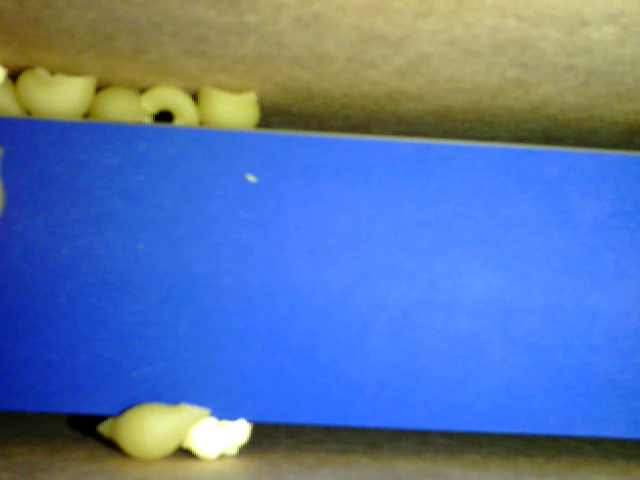elbow: (139, 82, 198, 126)
shell: (96, 401, 213, 460), (14, 67, 95, 120), (197, 82, 260, 130), (90, 84, 151, 127)
